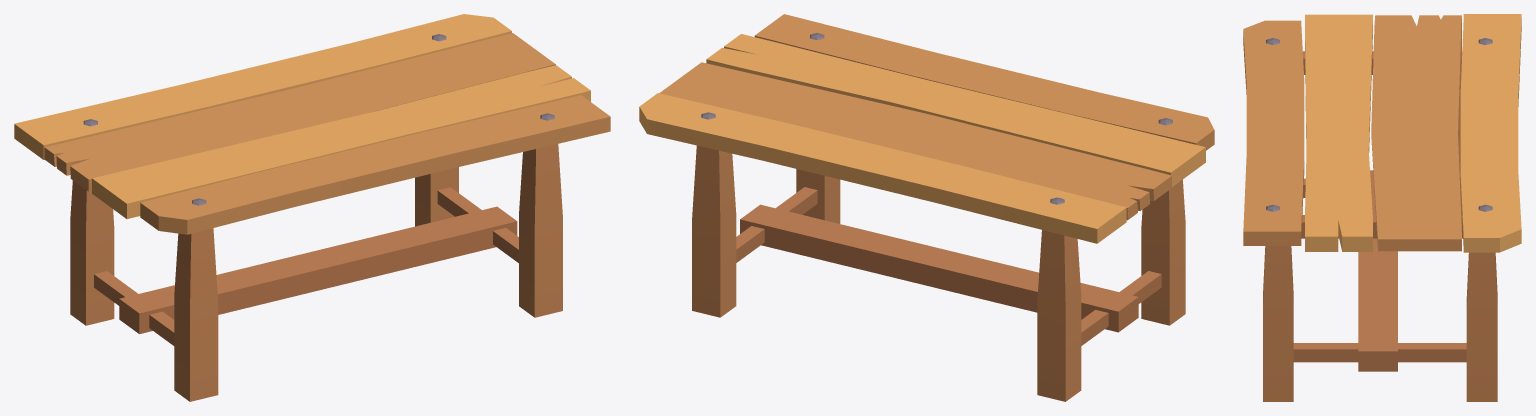
The model's file is table.fbx.
3 views of the same model, side by side, from view 1: azimuth 30°, elevation 25°; view 2: azimuth 150°, elevation 25°; view 3: azimuth 270°, elevation 25° (orthographic). The views are drawn at different scales.
Parts seen in each view (by area): view 1: polySurface203; view 2: polySurface203; view 3: polySurface203.
Boxes of the visible parts, x1,y1,x2,y2 form: polySurface203: (14, 14, 610, 401); polySurface203: (639, 14, 1214, 401); polySurface203: (1243, 14, 1521, 401).
Size of the model in its own units: 2.14 by 0.851 by 1.13.
